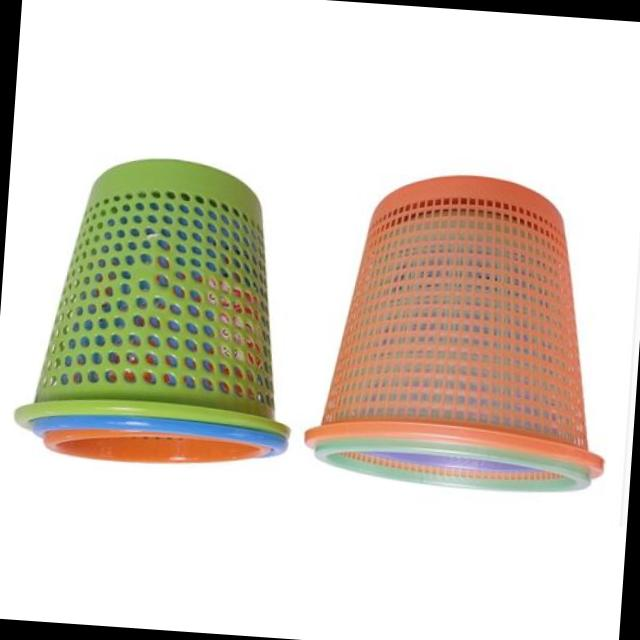dustbin: (7, 146, 310, 452)
